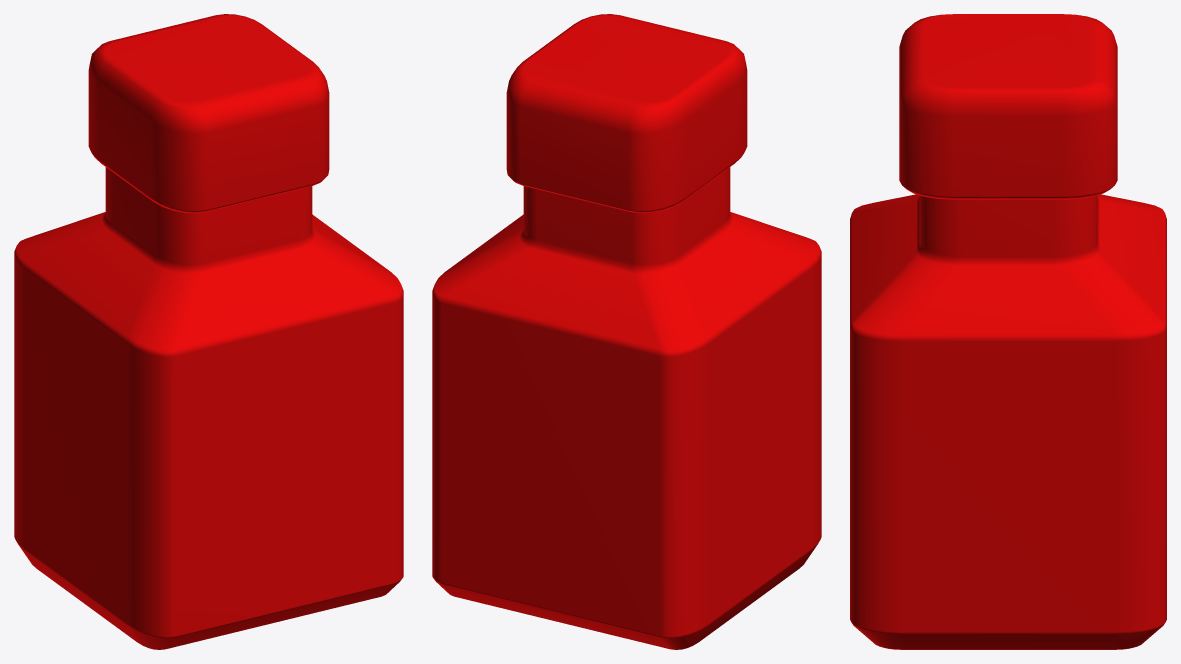
Rendered from Package_7.fbx.
3 renders of one model, left to right at view 1: azimuth 30°, elevation 25°; view 2: azimuth 150°, elevation 25°; view 3: azimuth 270°, elevation 25°, orthographic. The views are drawn at different scales.
Parts seen in each view (by area): view 1: L9:polySurface8; view 2: L9:polySurface8; view 3: L9:polySurface8.
Part boxes in pixels (left/top/right/bottom): L9:polySurface8: left=14, top=14, right=403, bottom=649; L9:polySurface8: left=432, top=14, right=821, bottom=649; L9:polySurface8: left=850, top=14, right=1166, bottom=649.
Size of the model in its own units: 8.42 by 15.61 by 8.33.
